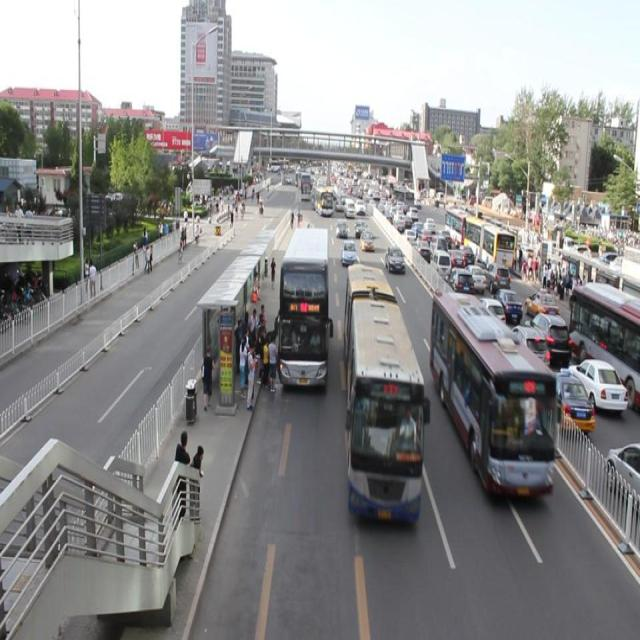car: (384, 242, 404, 271), (340, 237, 356, 263), (360, 228, 373, 248), (336, 216, 346, 236), (353, 218, 365, 234), (354, 196, 364, 215), (334, 193, 343, 210)
truck: (344, 195, 354, 217)
van: (432, 288, 552, 494), (345, 262, 421, 524), (280, 228, 326, 385), (312, 183, 333, 214)
